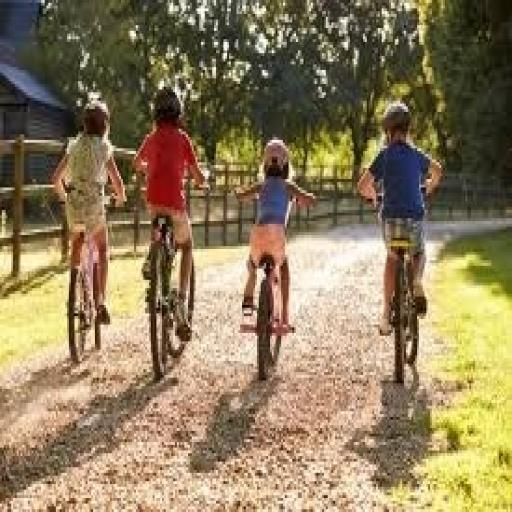cycling: (130, 84, 212, 350), (356, 98, 445, 341), (50, 95, 128, 336), (233, 134, 320, 338)
